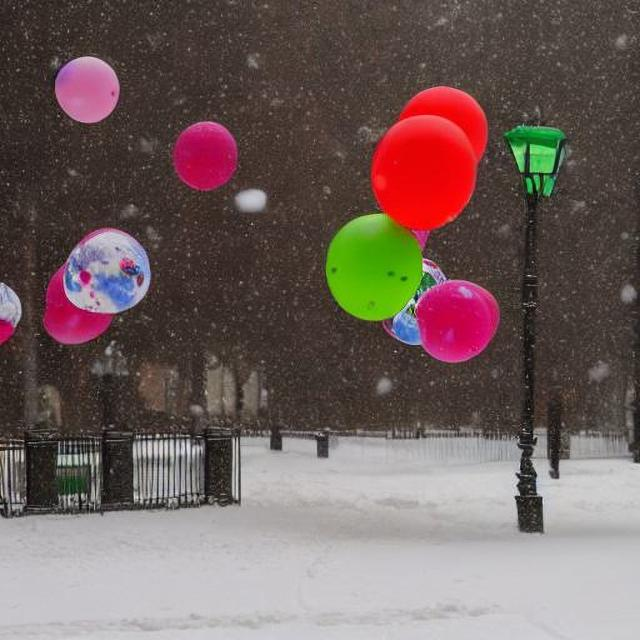balloon: (342, 86, 499, 354), (361, 96, 485, 255), (42, 223, 152, 343), (317, 209, 421, 323), (384, 85, 486, 164), (412, 278, 498, 361), (167, 118, 240, 190), (504, 123, 568, 200), (49, 54, 120, 121)
